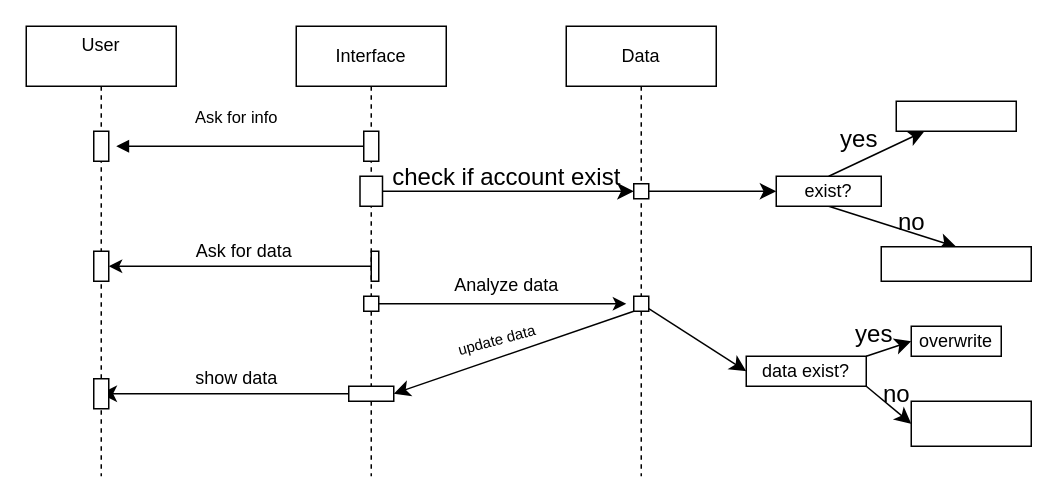
The diagram is 1058 pixels wide and 504 high, and some of its shapes have lost their labels. The shapes that lost their labels are listed below. From the top down, each one's centre as x and y in pixels, then its label:
point (955, 115): log in
point (955, 263): create new account
point (970, 423): create new data
